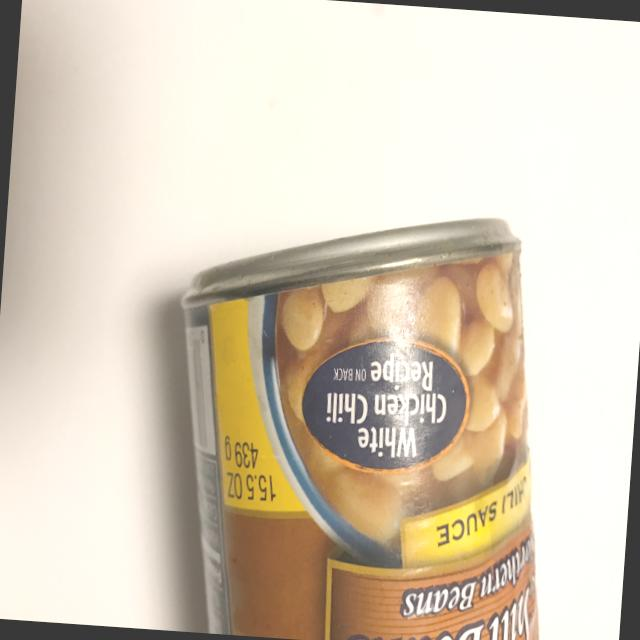Metal: (142, 186, 576, 640)
